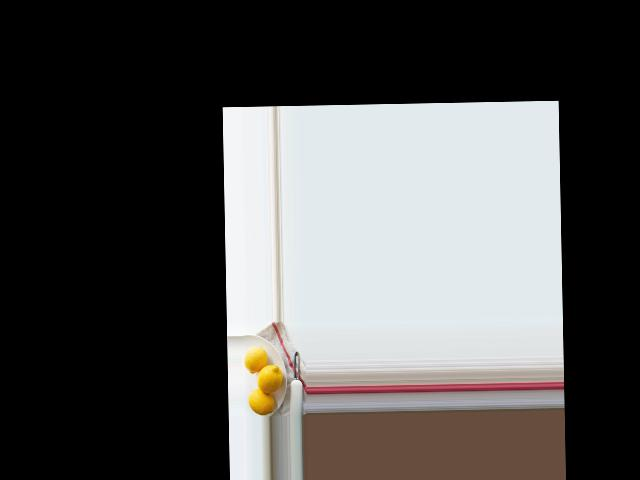lemon: (248, 388, 272, 417)
